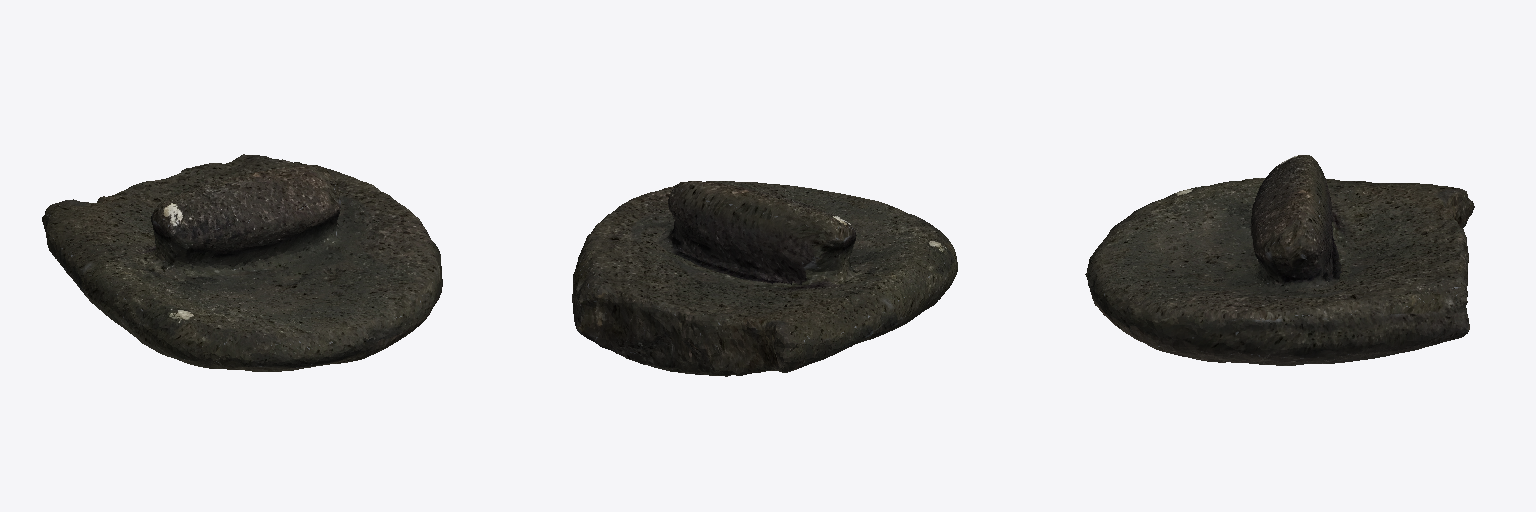
3 views of the same model, side by side, from view 1: azimuth 30°, elevation 25°; view 2: azimuth 150°, elevation 25°; view 3: azimuth 270°, elevation 25° (orthographic).
Parts seen in each view (by area): view 1: texturedMesh.001; view 2: texturedMesh.001; view 3: texturedMesh.001.
Boxes of the visible parts, box(x1,y1,x2,y2) form: texturedMesh.001: box(42, 154, 442, 371); texturedMesh.001: box(572, 181, 957, 376); texturedMesh.001: box(1085, 155, 1474, 365).
Size of the model in its own units: 0.8048 by 0.3537 by 0.883.
1 materials, 1 textured.